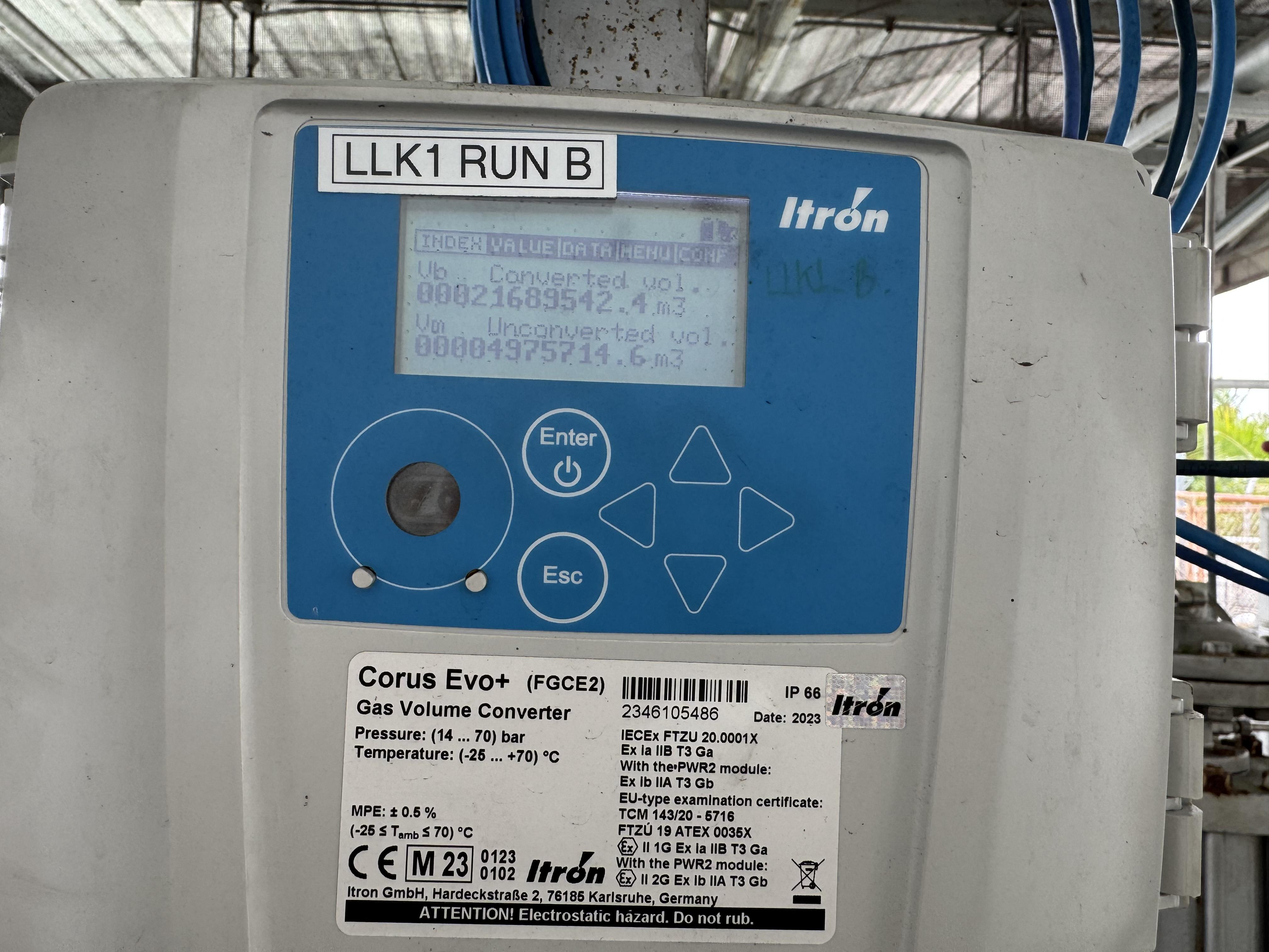digital_screen: (392, 182, 753, 388)
